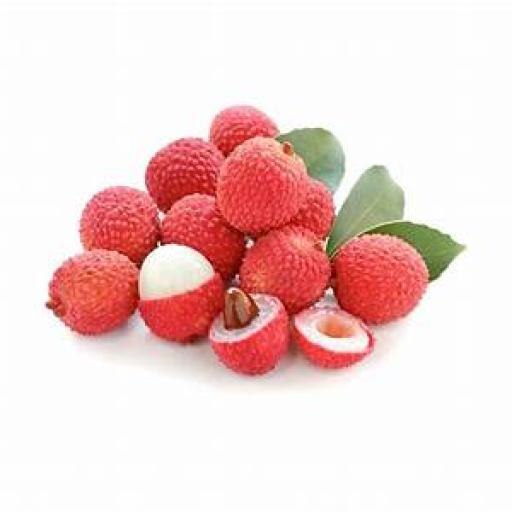lychee: (216, 137, 306, 233), (334, 234, 427, 324), (138, 245, 222, 343), (238, 227, 330, 312), (46, 250, 137, 334), (160, 193, 244, 279), (208, 289, 287, 375), (80, 187, 157, 264), (145, 139, 222, 211), (291, 303, 372, 368), (209, 106, 277, 157), (291, 180, 333, 238)
